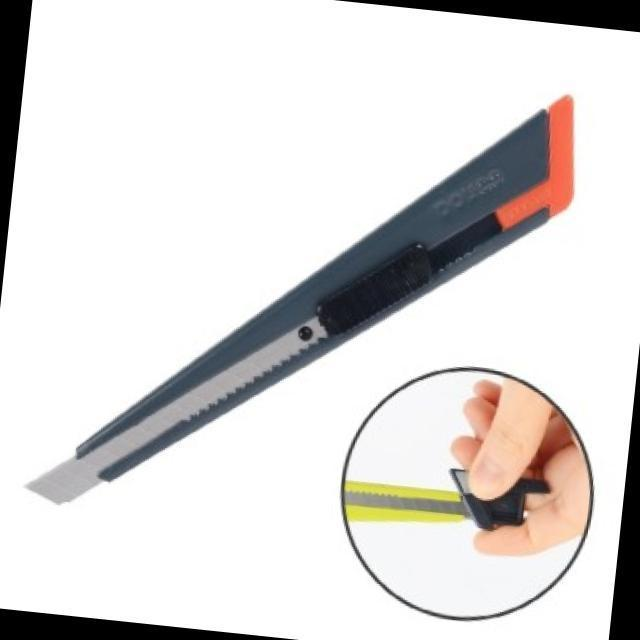cutter: (16, 31, 608, 570)
